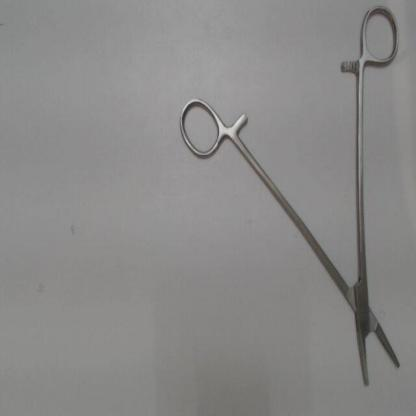8 Mayo Needle Holder: (169, 2, 410, 403)
